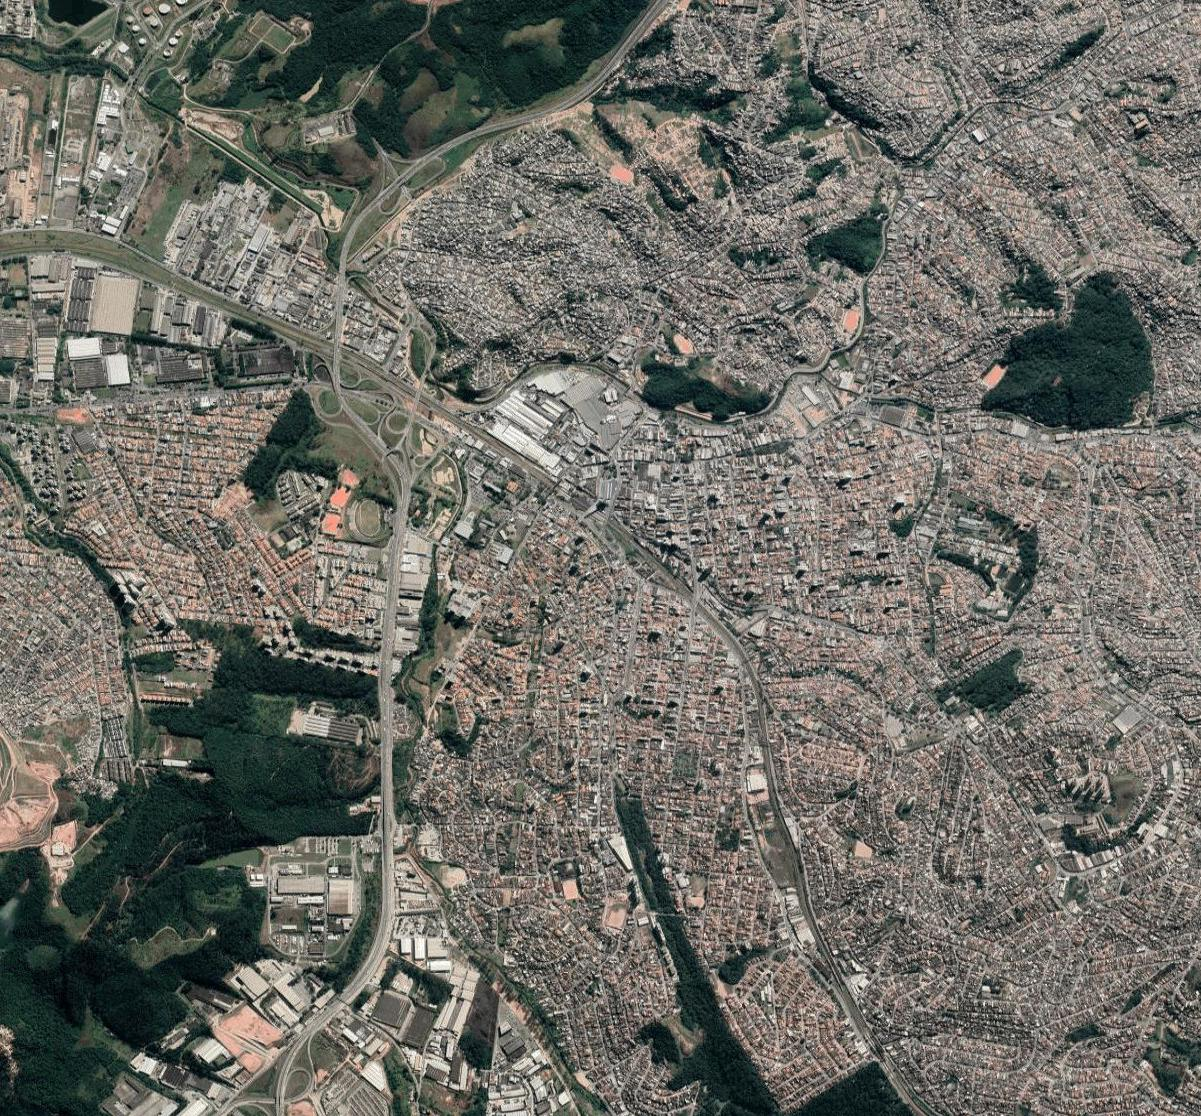motorway: (543, 1, 660, 119), (416, 105, 541, 166), (289, 958, 376, 1042), (339, 164, 411, 249), (368, 807, 399, 960), (377, 512, 408, 653), (327, 377, 376, 447), (376, 653, 396, 804), (328, 251, 352, 375), (373, 444, 415, 515), (274, 1044, 300, 1116)
train_station: (567, 489, 606, 522)
